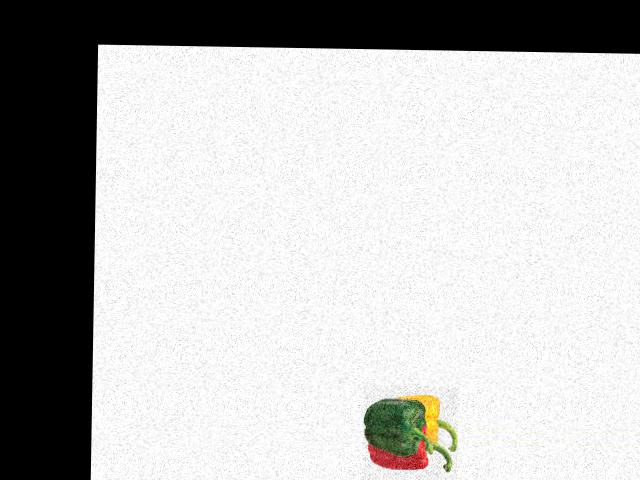bell_pepper: (365, 426, 454, 480)
